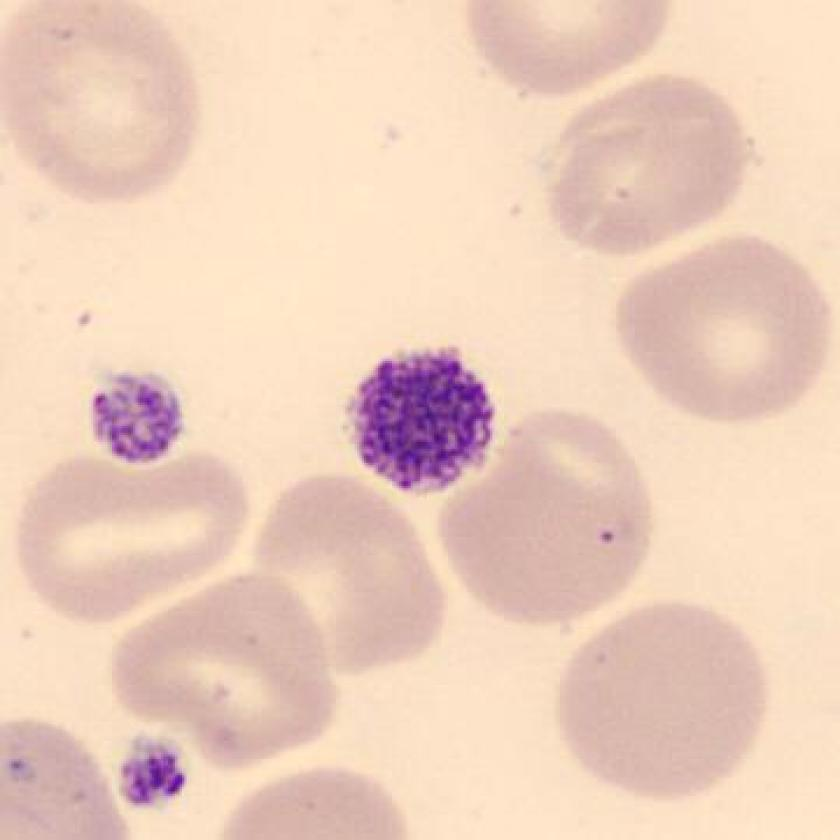platelets: (347, 341, 501, 494), (90, 360, 192, 473), (120, 730, 195, 822)
